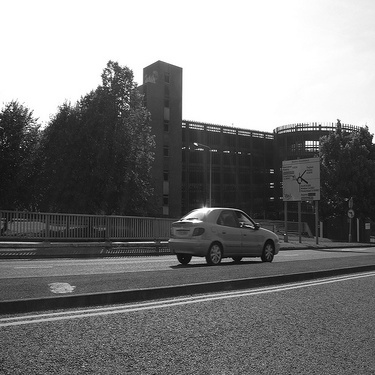car: (161, 191, 296, 273)
